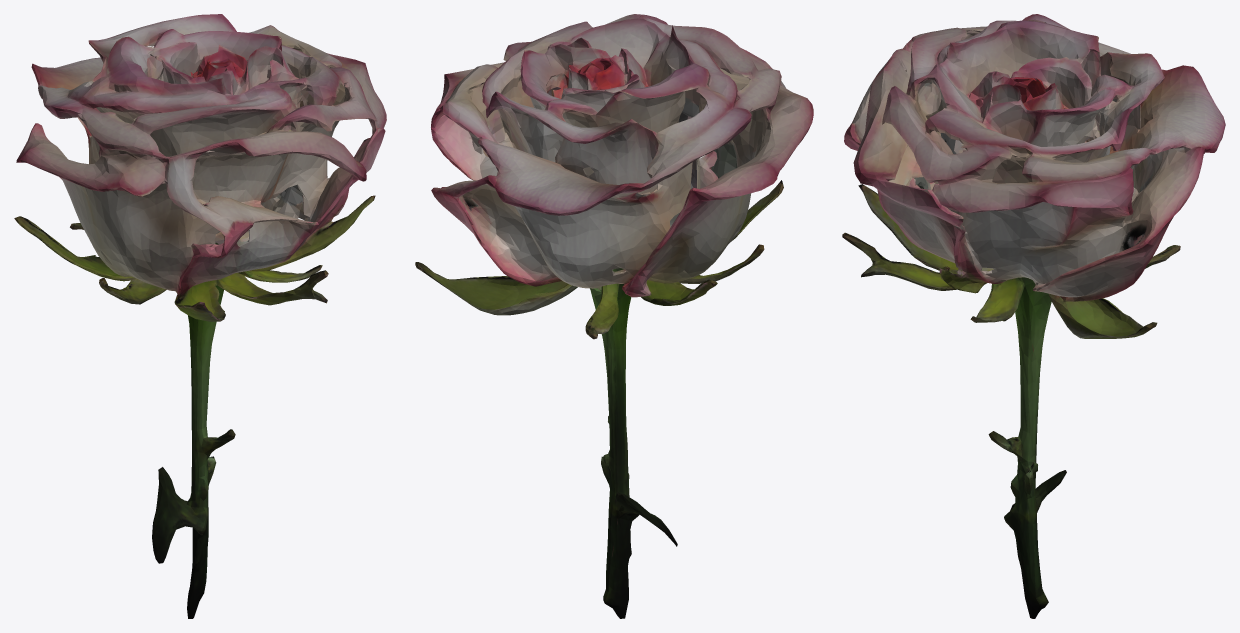
3 renders of one model, left to right at view 1: azimuth 30°, elevation 25°; view 2: azimuth 150°, elevation 25°; view 3: azimuth 270°, elevation 25°, orthographic.
Parts seen in each view (by area): view 1: world; view 2: world; view 3: world.
Boxes of the visible parts, x1,y1,x2,y2 form: world: (14, 14, 386, 618); world: (415, 14, 813, 618); world: (842, 14, 1225, 618).
Bounding box in the file's own units: 0.6161 × 0.9851 × 0.5995.
Materials: 1 (1 with a texture image).
